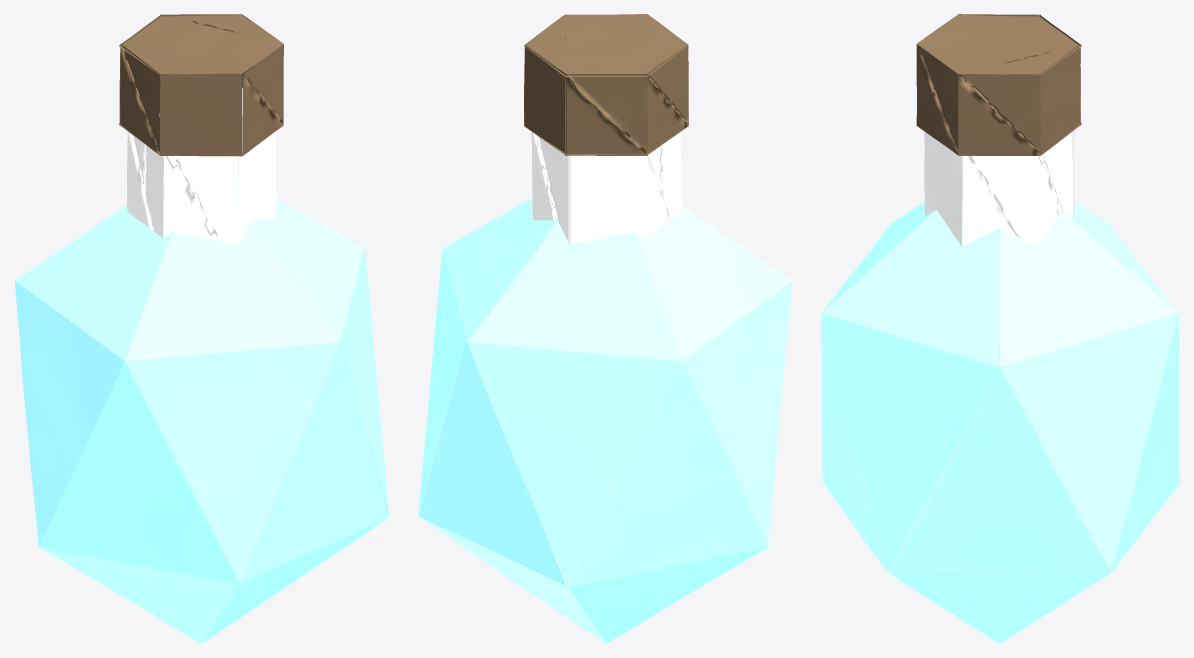
The model's file is potion_mana.glb.
The picture shows the model from 3 angles, left to right: view 1: azimuth 30°, elevation 25°; view 2: azimuth 150°, elevation 25°; view 3: azimuth 270°, elevation 25°; orthographic projection.
Visible parts, largest first — view 1: PotionMana; view 2: PotionMana; view 3: PotionMana.
Part boxes in pixels (left/top/right/bottom): PotionMana: left=14, top=14, right=389, bottom=643; PotionMana: left=418, top=14, right=792, bottom=643; PotionMana: left=821, top=14, right=1179, bottom=643.
Bounding box in the file's own units: 0.5018 × 0.8824 × 0.4779.
